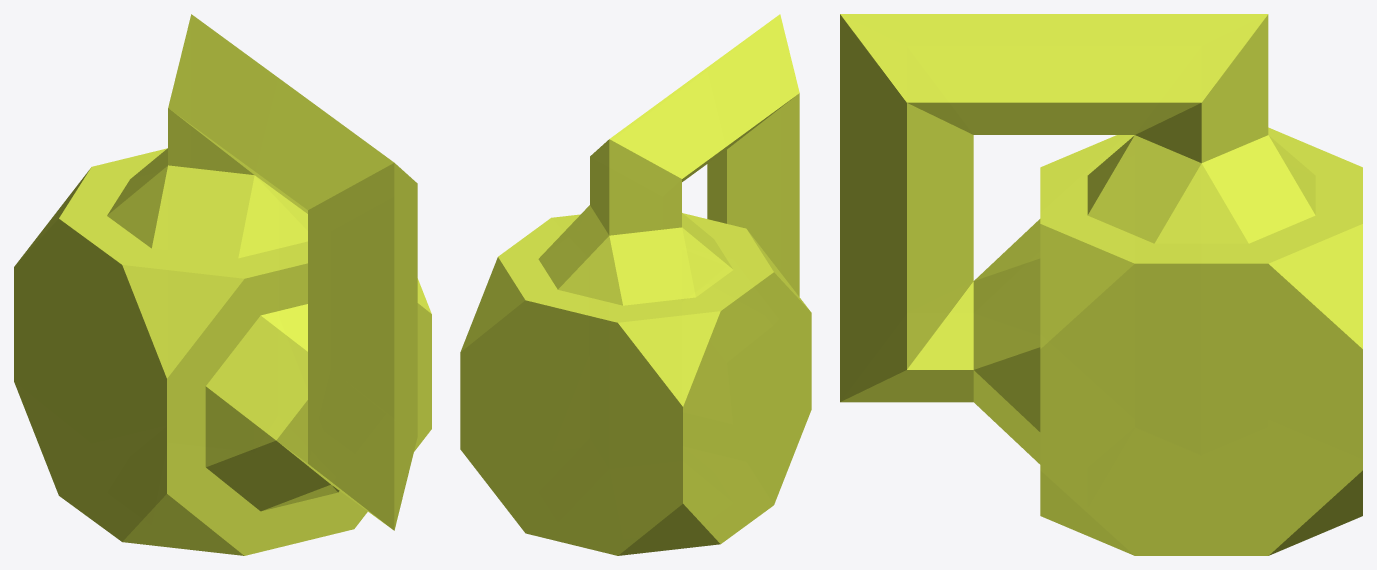
File: TruncatedCube2.obj
3 views of the same model, side by side, from view 1: azimuth 30°, elevation 25°; view 2: azimuth 150°, elevation 25°; view 3: azimuth 270°, elevation 25° (orthographic). The views are drawn at different scales.
Size of the model in its own units: 1.41 by 2.29 by 2.29.
